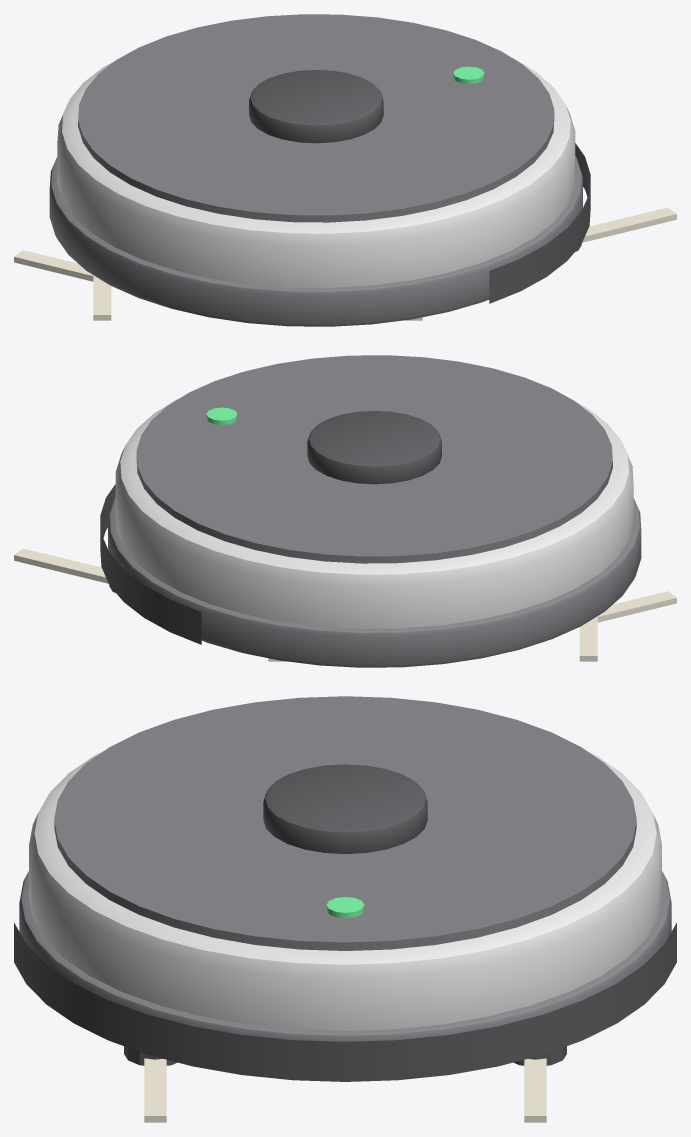
Rendered from vacuum.glb.
3 views of the same model, one above another, from view 1: azimuth 30°, elevation 25°; view 2: azimuth 150°, elevation 25°; view 3: azimuth 270°, elevation 25° (orthographic). The views are drawn at different scales.
Visible parts, largest first — view 1: Vacuum, Brush_R, Brush_L; view 2: Vacuum, Brush_L, Brush_R; view 3: Vacuum, Brush_L, Brush_R.
Part boxes in pixels (x1,y1,x2,y2): Vacuum: (49, 14, 590, 326); Brush_R: (93, 207, 676, 320); Brush_L: (14, 250, 422, 320); Vacuum: (100, 355, 641, 667); Brush_L: (14, 548, 597, 661); Brush_R: (268, 591, 676, 661); Vacuum: (14, 696, 676, 1081); Brush_L: (513, 1046, 566, 1122); Brush_R: (124, 1046, 177, 1122).
Bounding box in the file's own units: 1.2 × 0.28 × 1.05.
